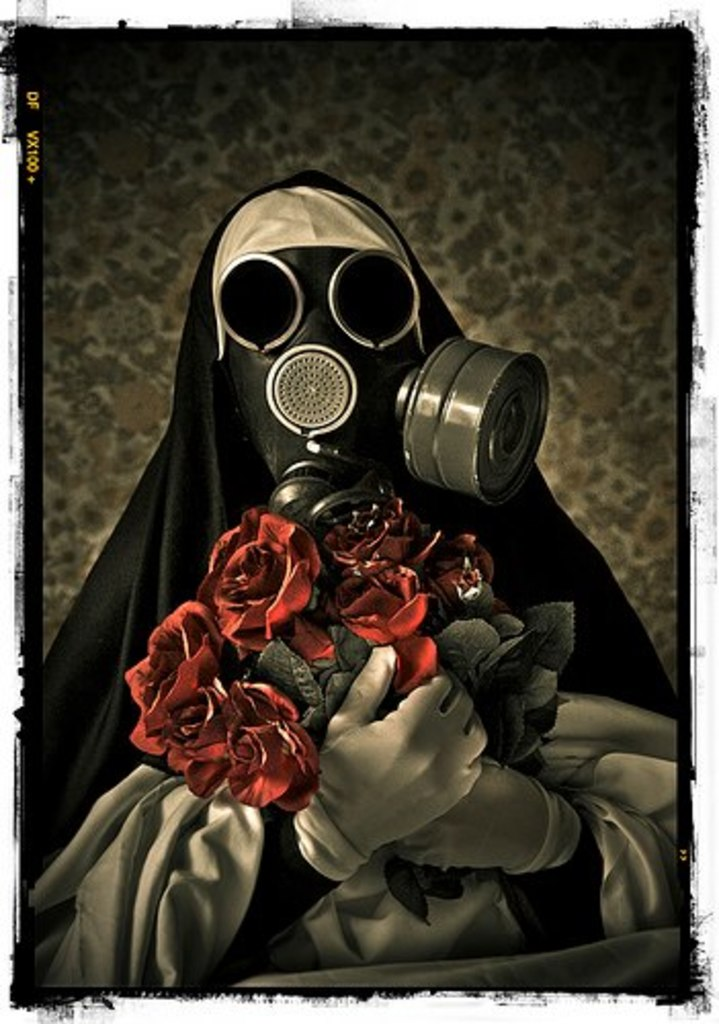Person: (19, 170, 683, 980)
